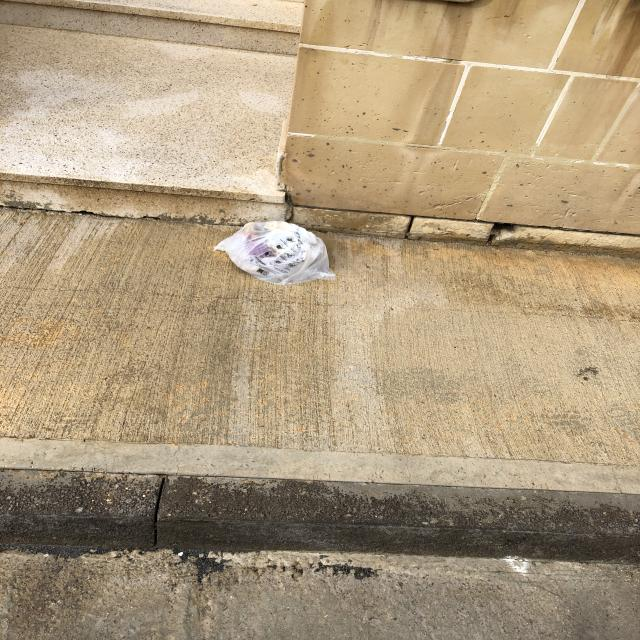Organic Waste -White Bag-: (221, 218, 338, 287)
